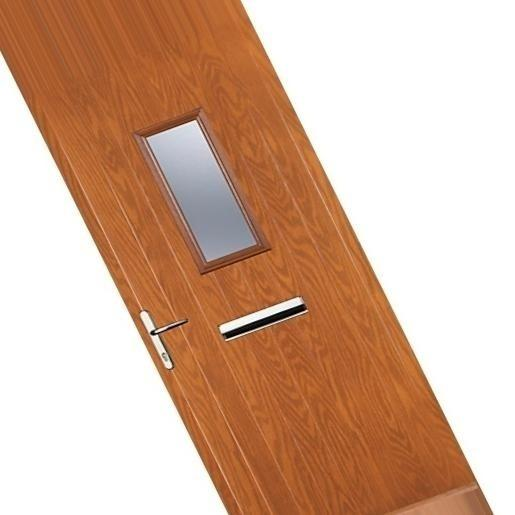door: (0, 0, 475, 515)
